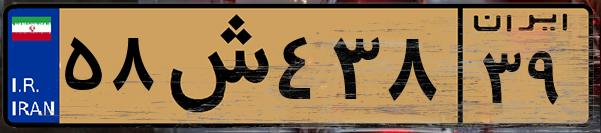3: (330, 28, 385, 110), (475, 38, 525, 113)
4: (270, 28, 330, 110)
5: (57, 26, 110, 100)
8: (385, 28, 445, 110), (110, 28, 158, 98)
9: (525, 38, 570, 115)
ش: (158, 12, 270, 120)
